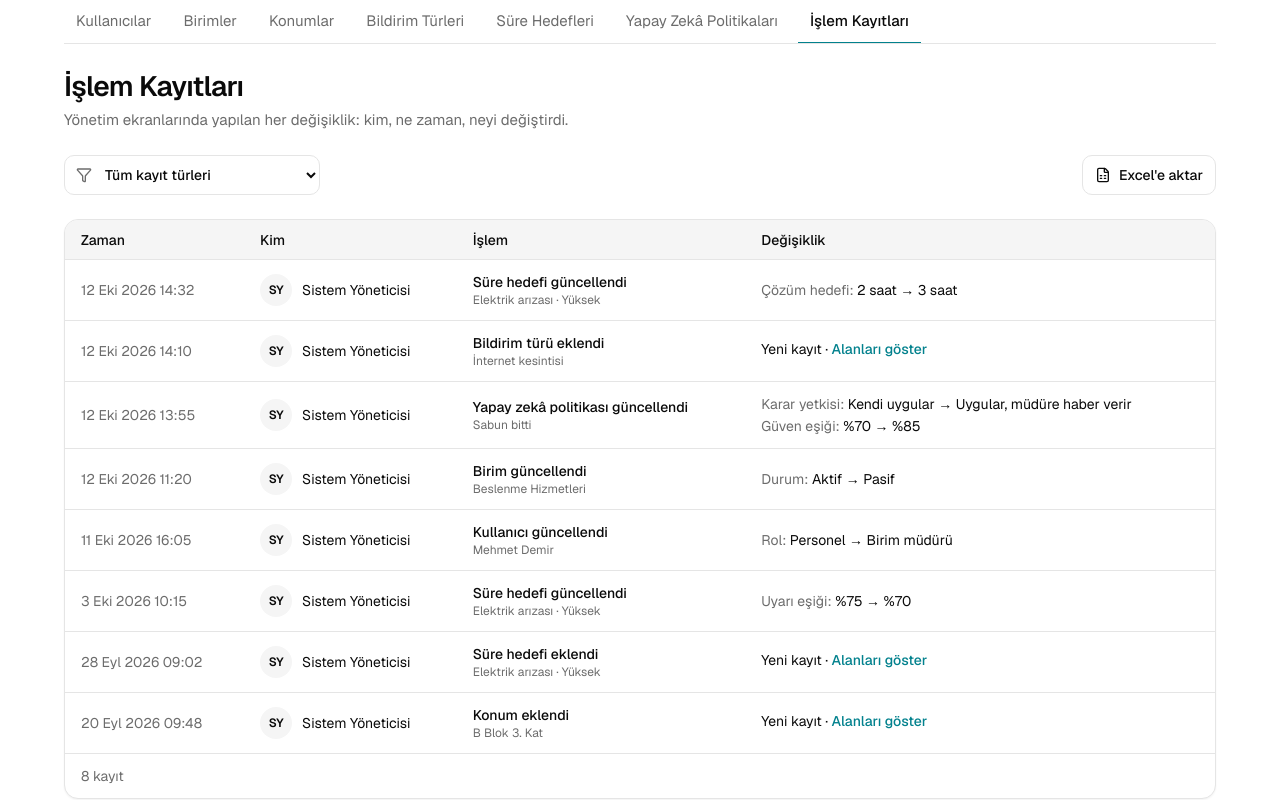
Test case: AuditLogsScreen › filters by record kind on the server and offers to clear when nothing matches
Select "Süre hedefi" in the dropdown named "Kayıt türü". click: (192, 175)
box: [64, 155, 320, 195]
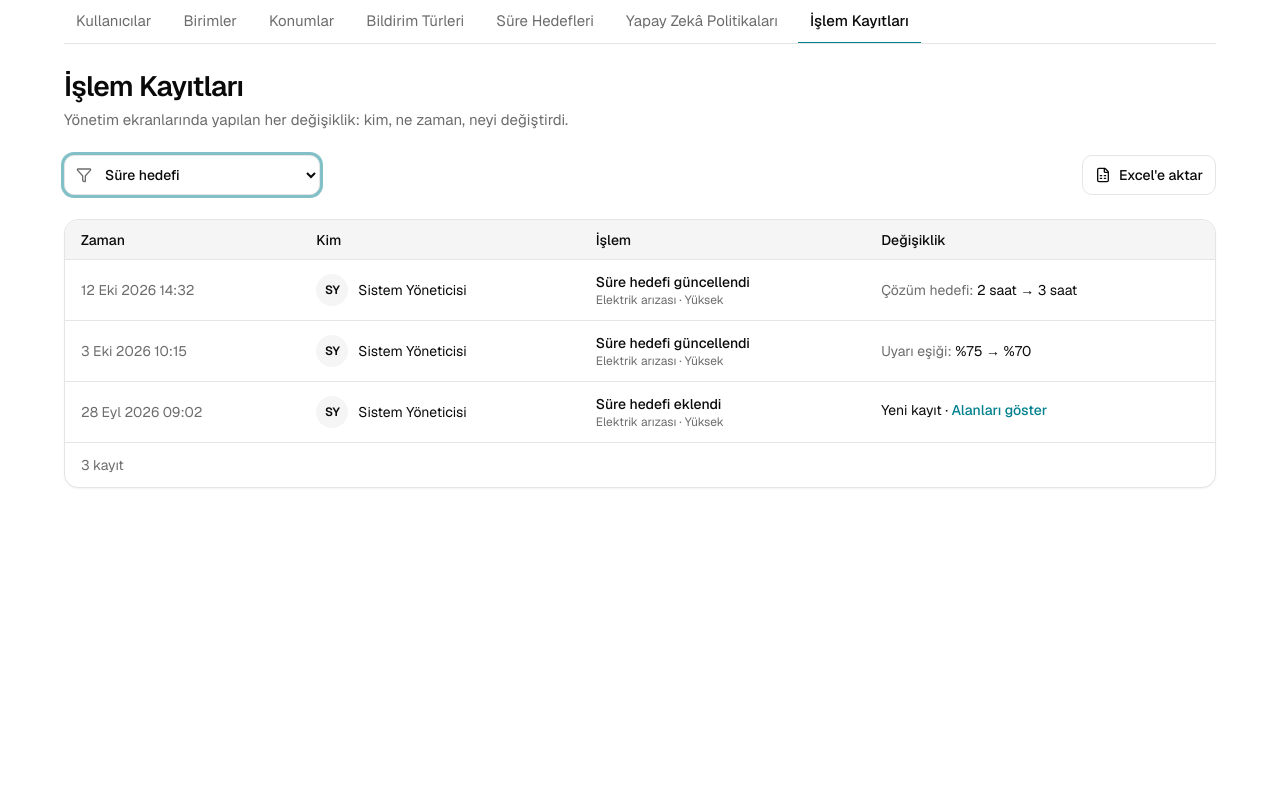
Expected: the text "3 kayıt" is shown, [81, 455, 124, 475]
Expected: the text "Birim güncellendi" is gone
Select "Konum" in the dropdown named "Kayıt türü". click: (192, 175)
box: [64, 155, 320, 195]
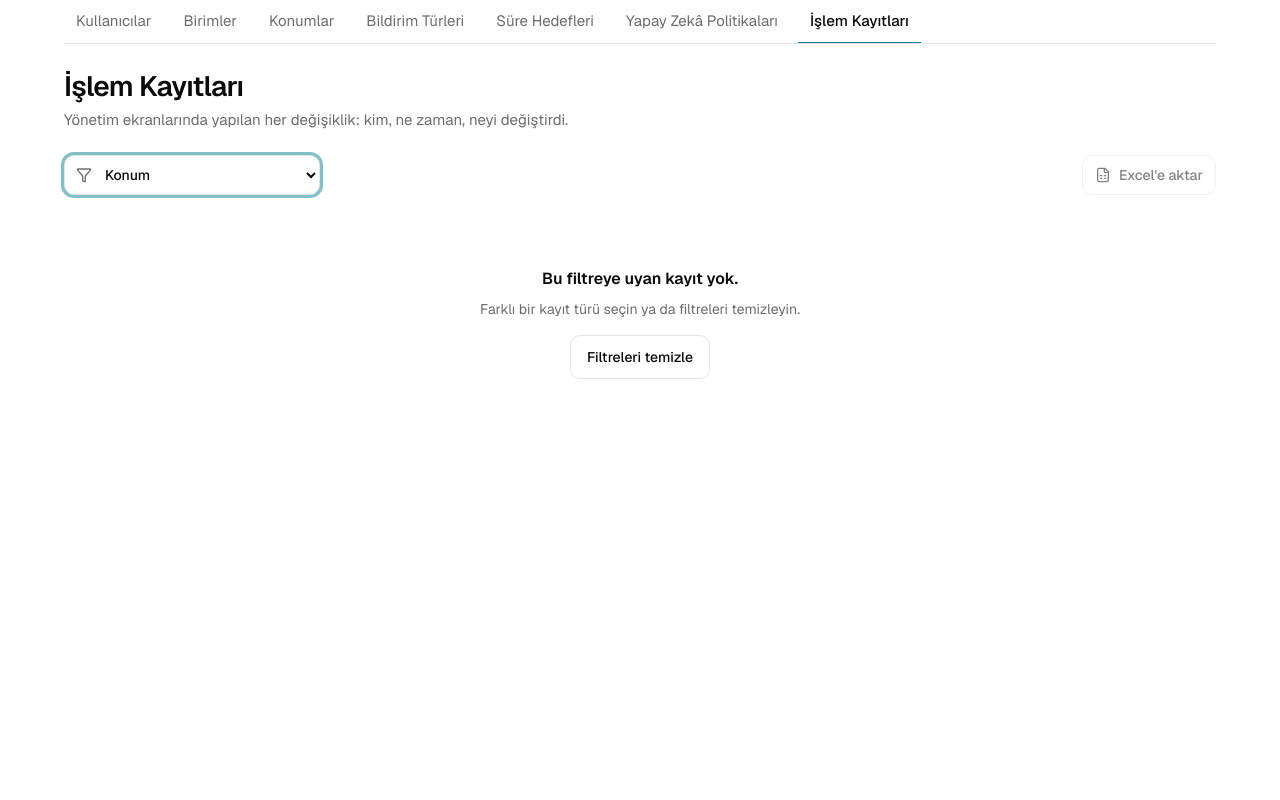
Expected: the text "Bu filtreye uyan kayıt yok." is shown, [542, 267, 738, 291]
Expected: the text "Farklı bir kayıt türü seçin ya da filtreleri temizleyin." is shown, [480, 299, 800, 319]
Click the button "Filtreleri temizle". click: (640, 357)
box: [570, 335, 710, 379]
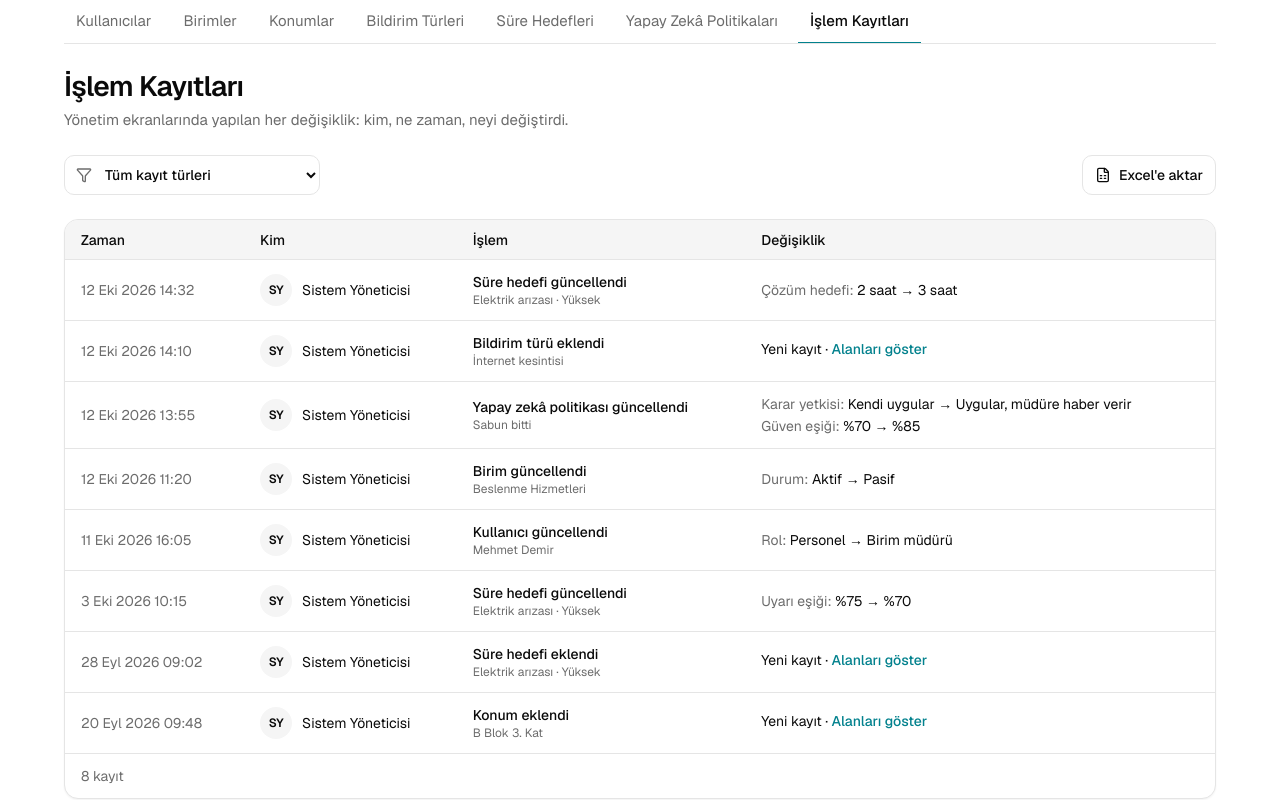
Expected: the row "Birim güncellendi" is shown, [65, 449, 1215, 510]
